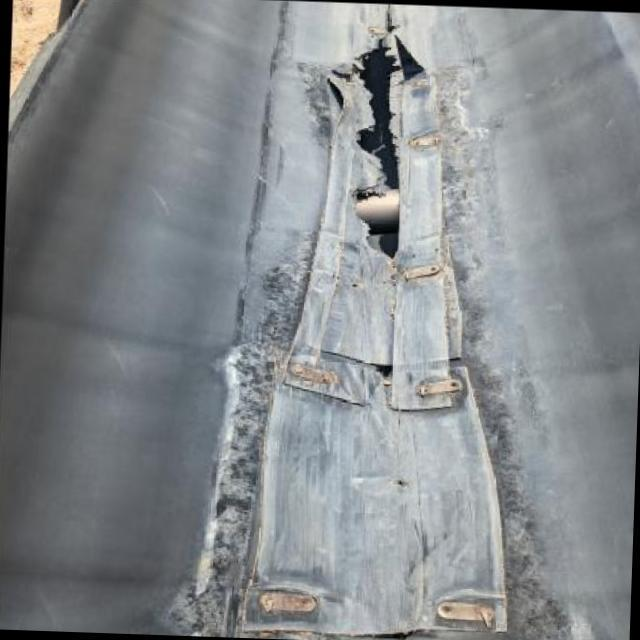Hole: (324, 7, 438, 263)
